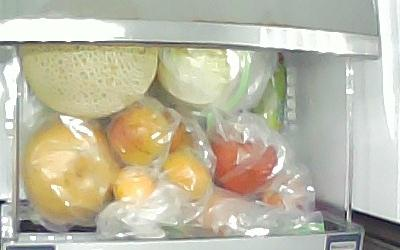cabbage_vinyl: (156, 46, 250, 104)
melon: (17, 44, 158, 118)
pear_vinyl: (24, 114, 121, 219)
prune_vinyl: (106, 100, 171, 165)
tangerine_vinyl: (160, 152, 211, 203), (111, 163, 156, 203)
tomato_vinyl: (209, 128, 278, 194)
zucchini_vinyl: (250, 59, 287, 134)
